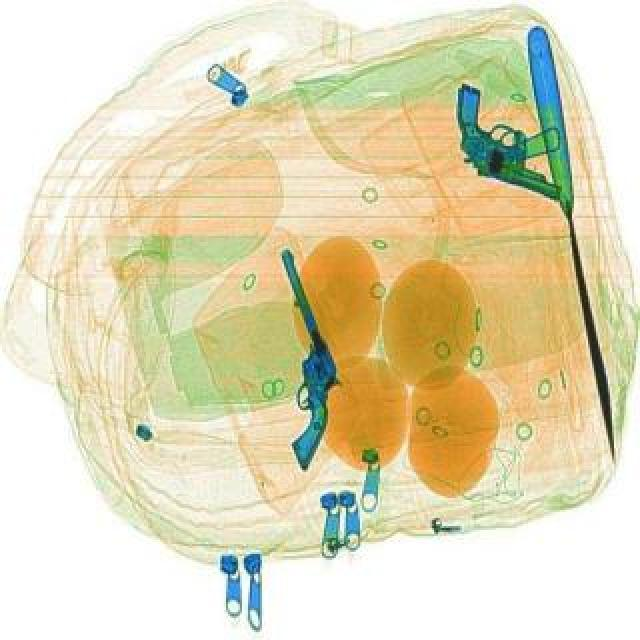gun: (226, 252, 370, 476), (426, 86, 590, 210)
knife: (524, 30, 634, 468)
